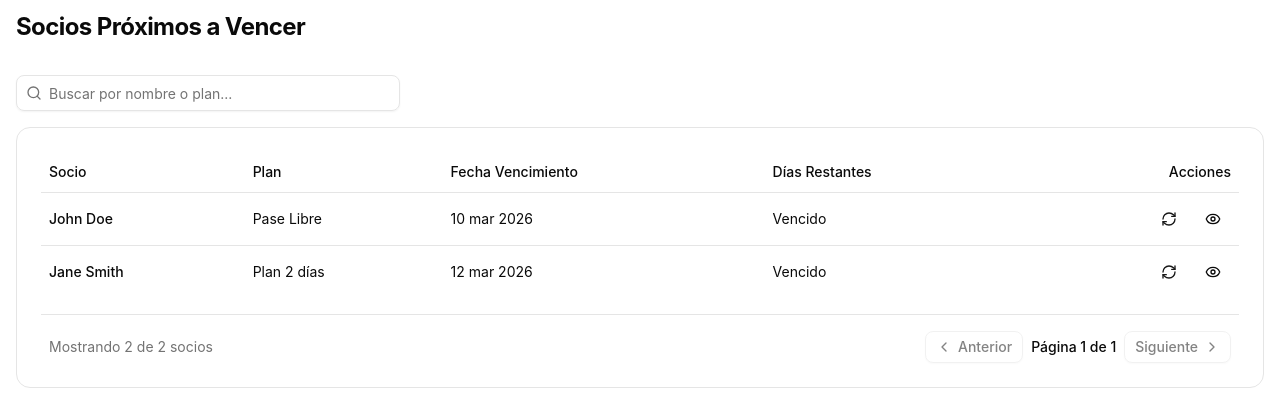
Test case: ExpiringMembersPage › should filter members by name
The width and height of the screenshot is (1280, 405).
Expected: the text "John Doe" is shown, top-left (41, 192), bottom-right (245, 245)
Type "Jane" into the field with placeholder "Buscar por nombre o plan..." at (208, 93), box top-left (16, 75), bottom-right (400, 111)
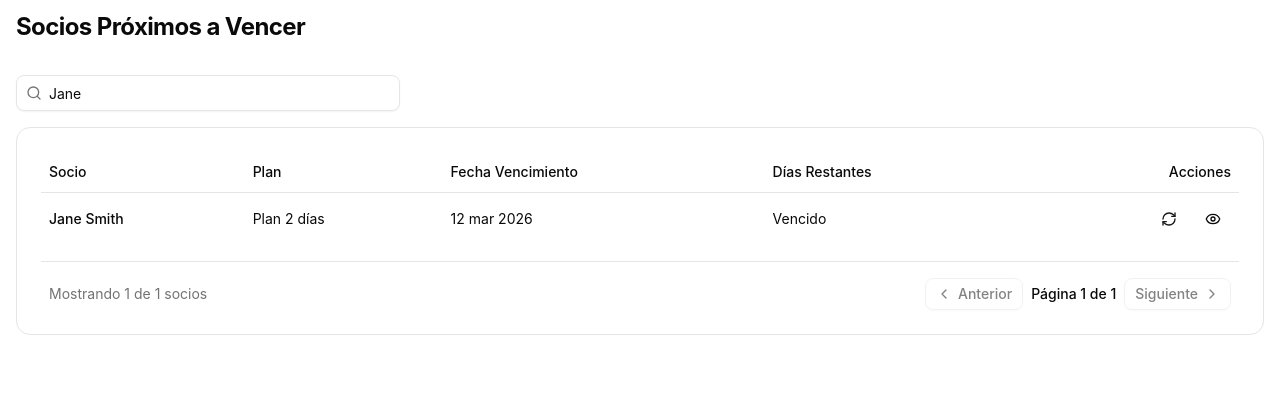
Expected: the text "Jane Smith" is shown, top-left (41, 192), bottom-right (245, 244)
Result: the text "John" is gone
